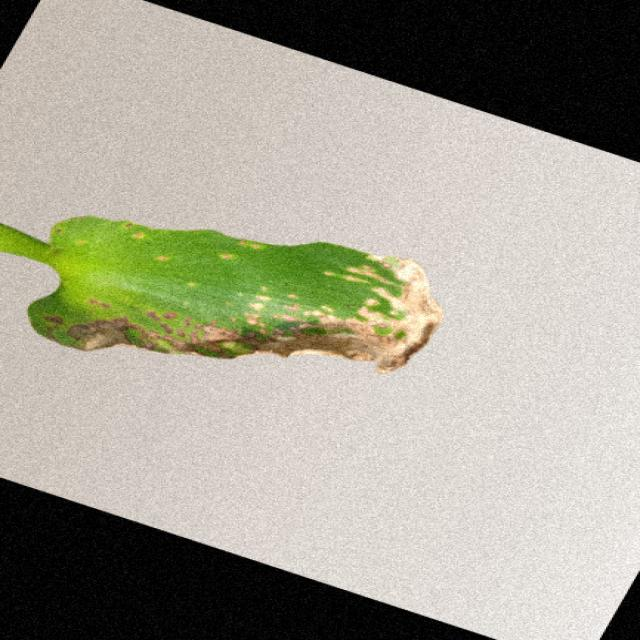daun berpenyakit bercak: (0, 216, 441, 373)
